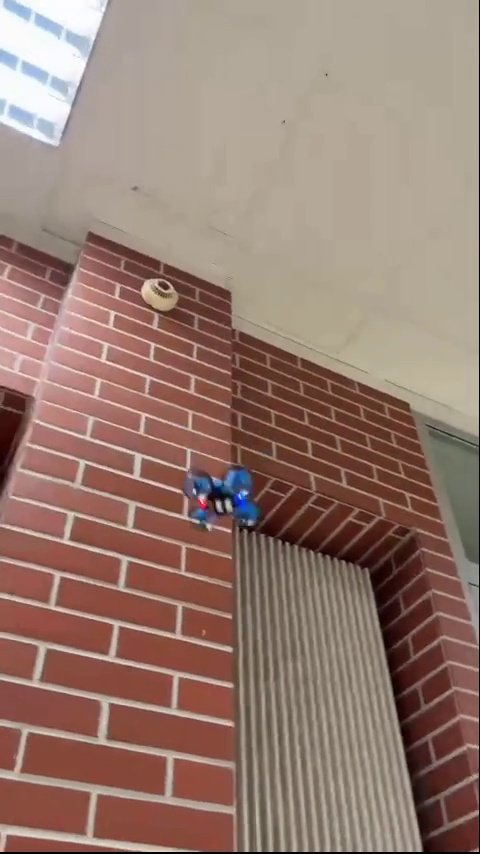drone: (184, 469, 256, 527)
